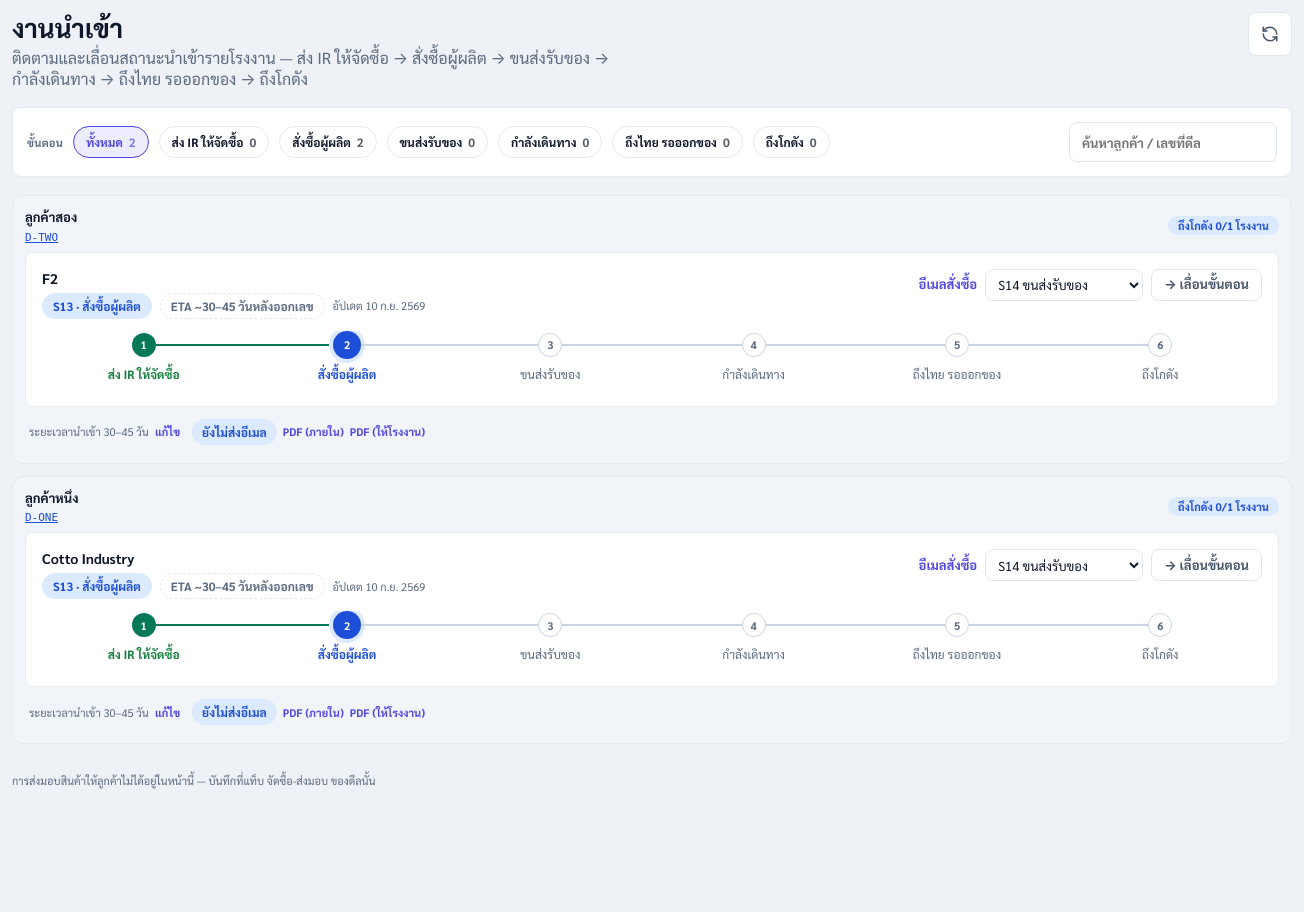
ImportFulfilmentPage (per-factory, stored aggregate) › filters by customer or deal code from the search box
Type "D-TWO" into the search field with test id "fulfilment-search" at (1173, 142), box [1069,122,1277,162]
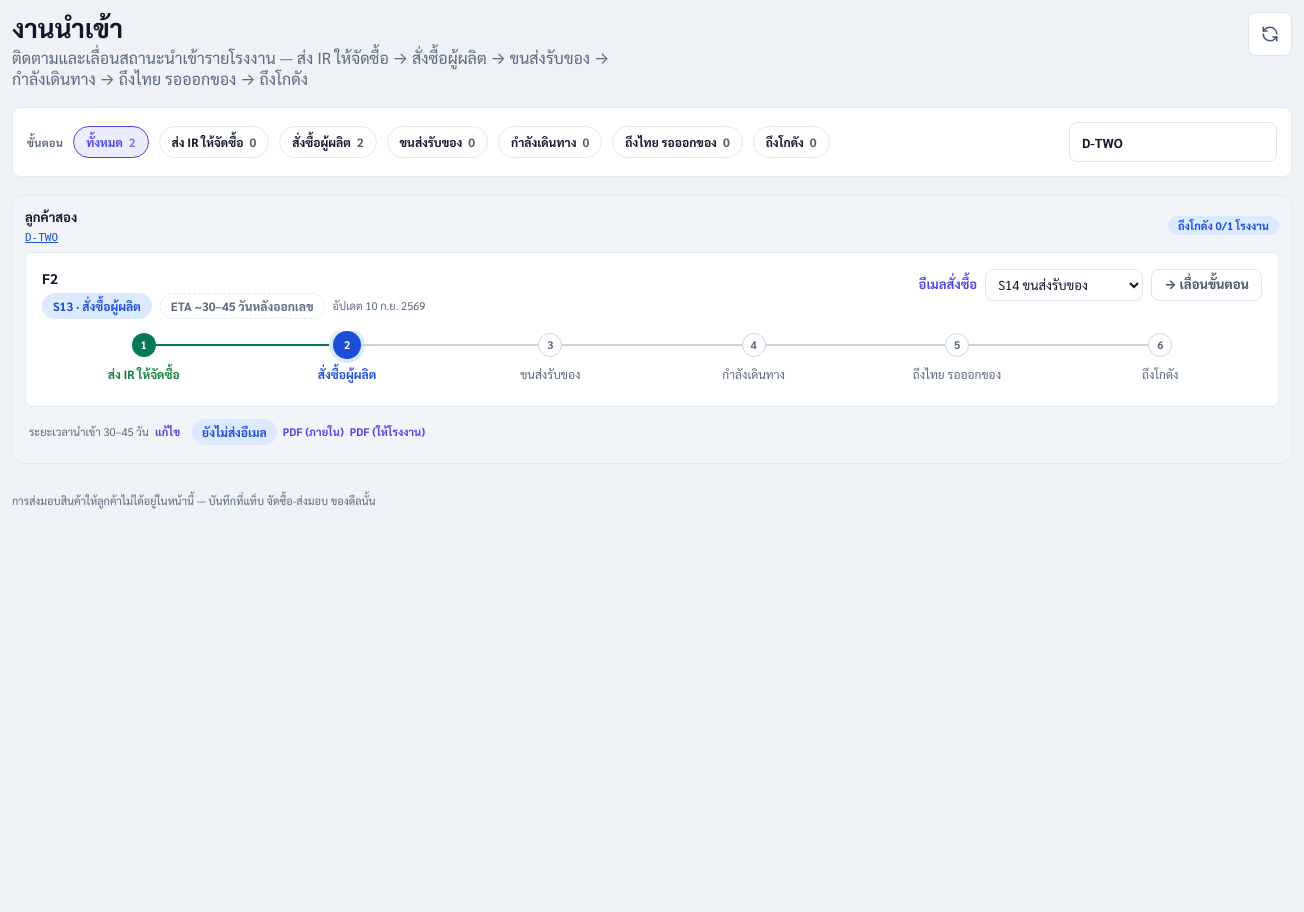
expect the text "ลูกค้าสอง" is shown: met, box [25,208,77,227]
expect the text "ลูกค้าหนึ่ง" is gone: met
